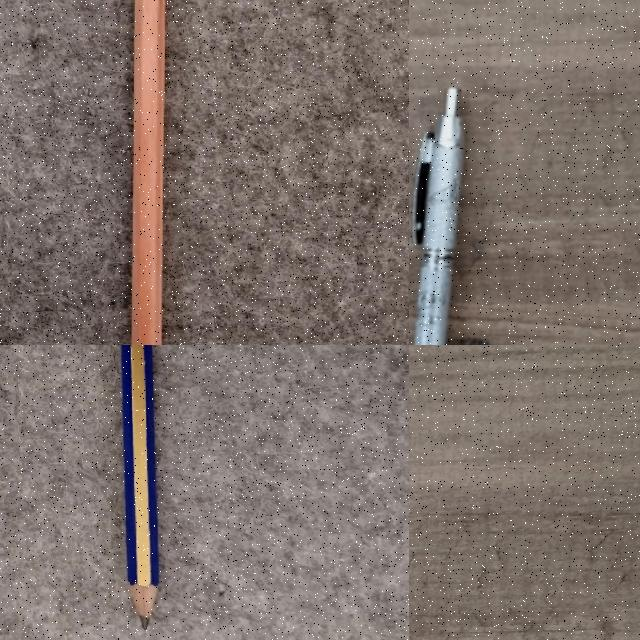pencil: (132, 0, 164, 344), (122, 345, 158, 628)
signature pen: (411, 85, 468, 345)
